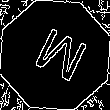M_SW: (23, 22, 87, 88)
